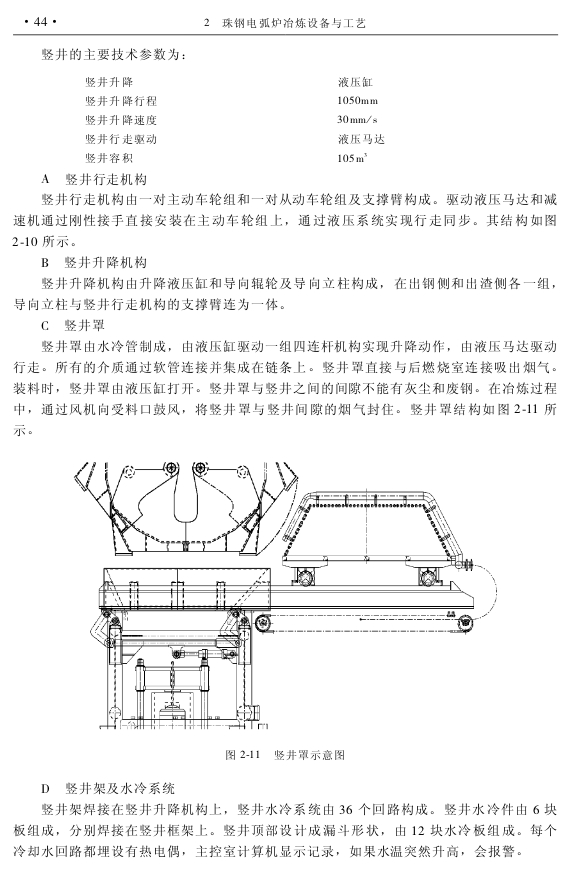table: (86, 75, 385, 162)
